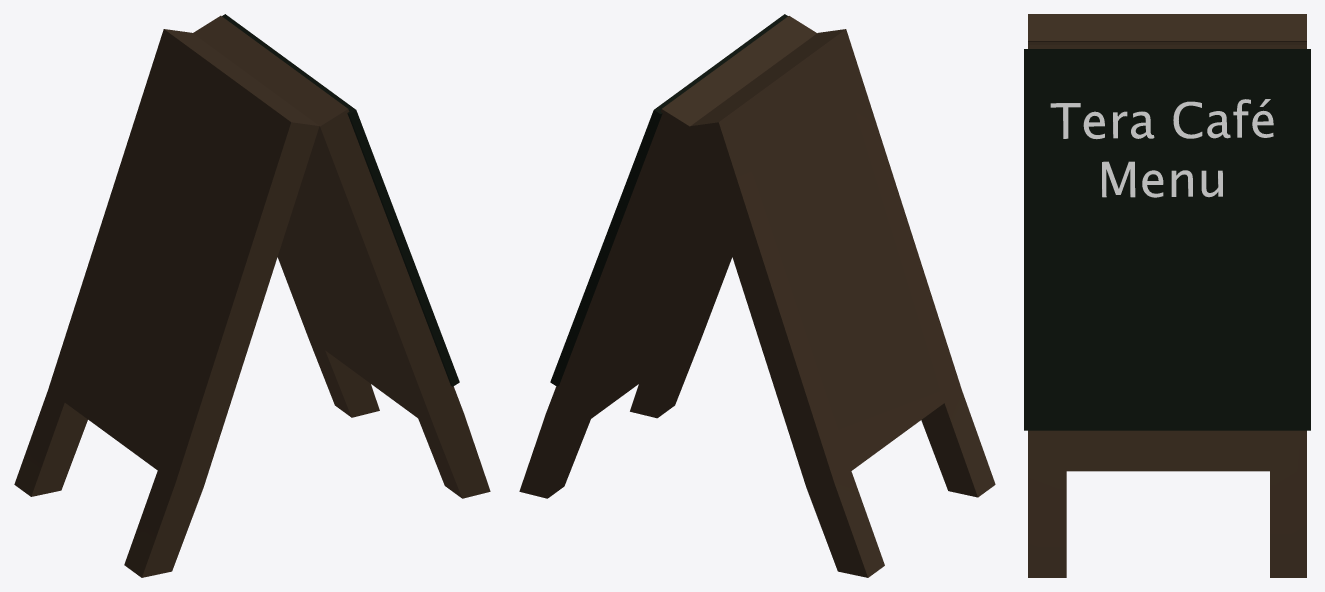
Rendered from Menu.fbx.
The picture shows the model from 3 angles, left to right: view 1: azimuth 30°, elevation 25°; view 2: azimuth 150°, elevation 25°; view 3: azimuth 270°, elevation 25°; orthographic projection. The views are drawn at different scales.
Visible parts, largest first — view 1: pCube2, pCube1, pCube3; view 2: pCube2, pCube1, pCube3; view 3: pCube3, pCube1, pCube2, typeMesh1.
Part boxes in pixels (x1,y1,x2,y2): pCube2: (14, 29, 319, 577); pCube1: (193, 15, 490, 498); pCube3: (222, 14, 459, 386); pCube2: (690, 29, 995, 577); pCube1: (519, 16, 816, 498); pCube3: (550, 14, 787, 386); pCube3: (1024, 49, 1310, 430); pCube1: (1028, 41, 1306, 577); pCube2: (1028, 14, 1306, 41); typeMesh1: (1050, 99, 1273, 197).
Size of the model in its own units: 1.58 by 1.82 by 1.03.
